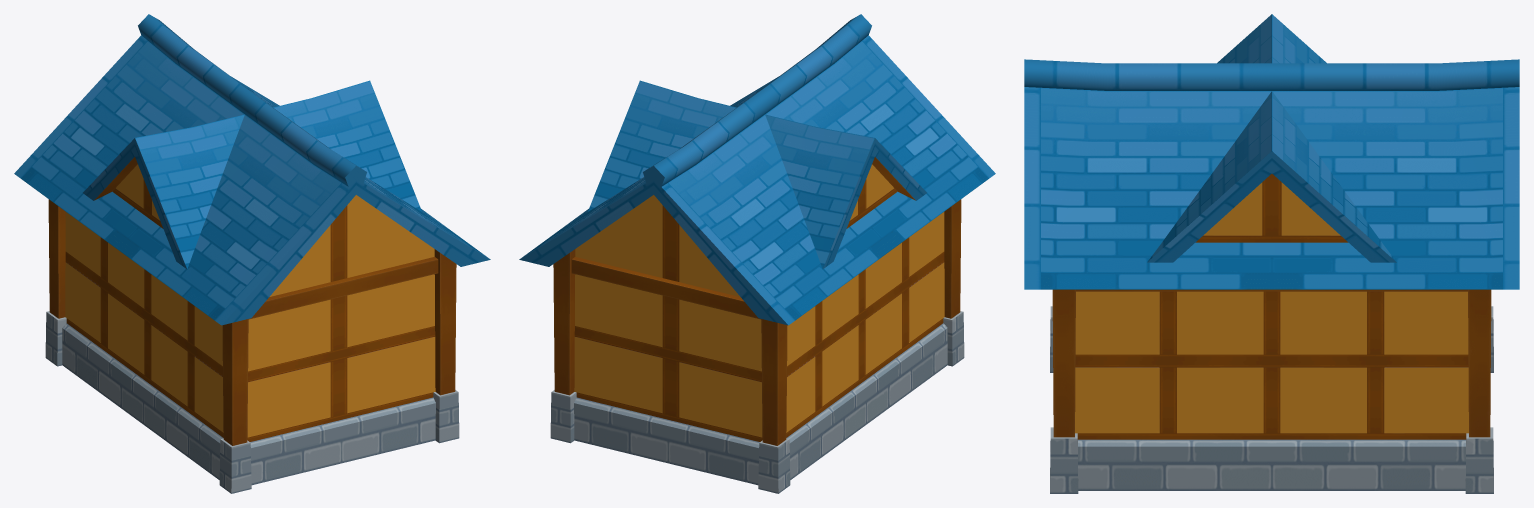
The model's file is HOS0410002.fbx.
3 views of the same model, side by side, from view 1: azimuth 30°, elevation 25°; view 2: azimuth 150°, elevation 25°; view 3: azimuth 270°, elevation 25° (orthographic). The views are drawn at different scales.
Parts seen in each view (by area): view 1: smHOS0410002; view 2: smHOS0410002; view 3: smHOS0410002.
Boxes of the visible parts, x1=… form: smHOS0410002: x1=14, y1=14, x2=490, y2=493; smHOS0410002: x1=519, y1=14, x2=995, y2=493; smHOS0410002: x1=1024, y1=14, x2=1519, y2=493.
Size of the model in its own units: 322 by 352 by 429.
1 material, 1 textured.
